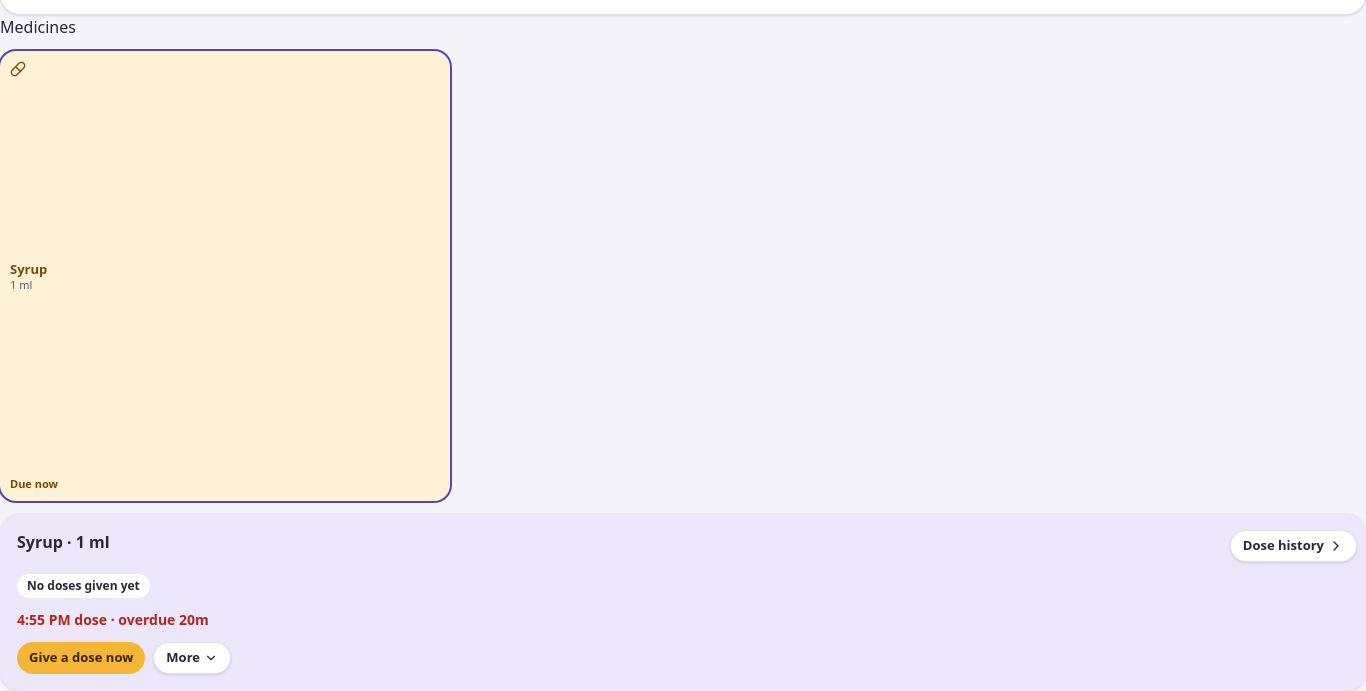
declining the reminder posts nothing, and a complete dose offers none
(page scrolled)
Click the button "More": click(192, 658) [153, 642, 231, 674]
(page scrolled)
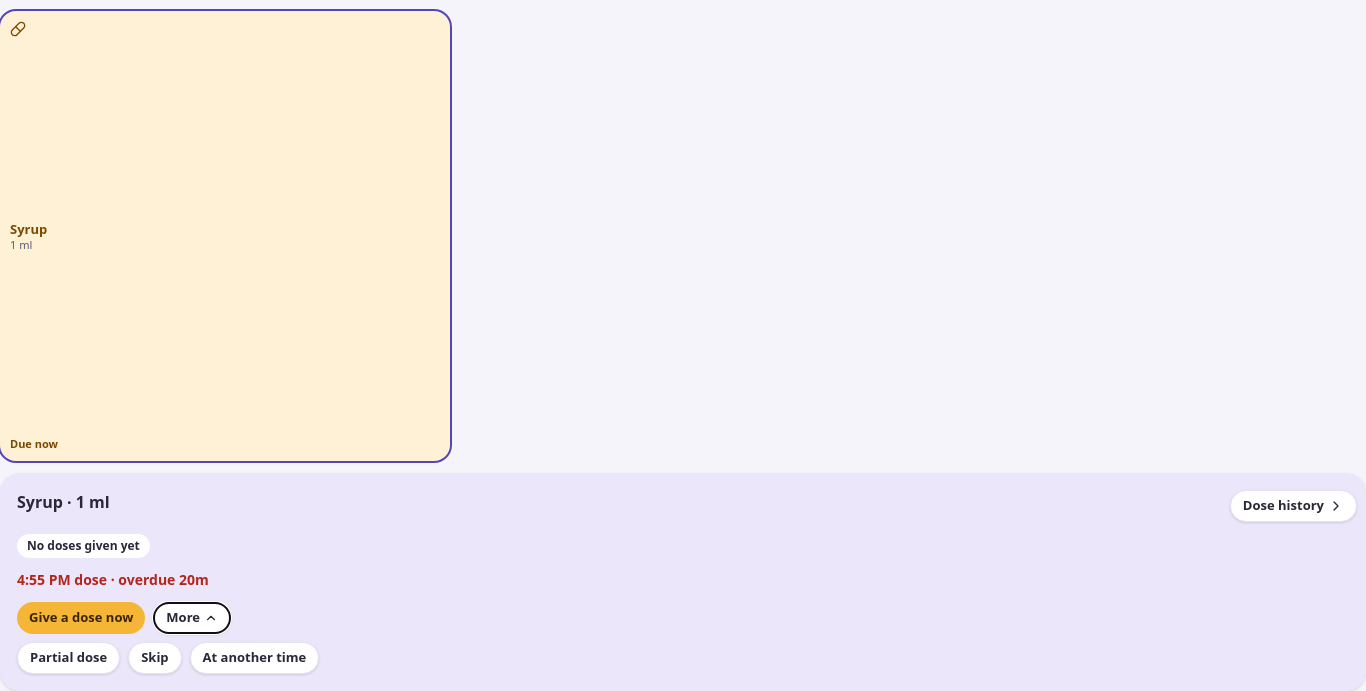
Click the button "Partial dose": click(69, 658) [17, 642, 120, 674]
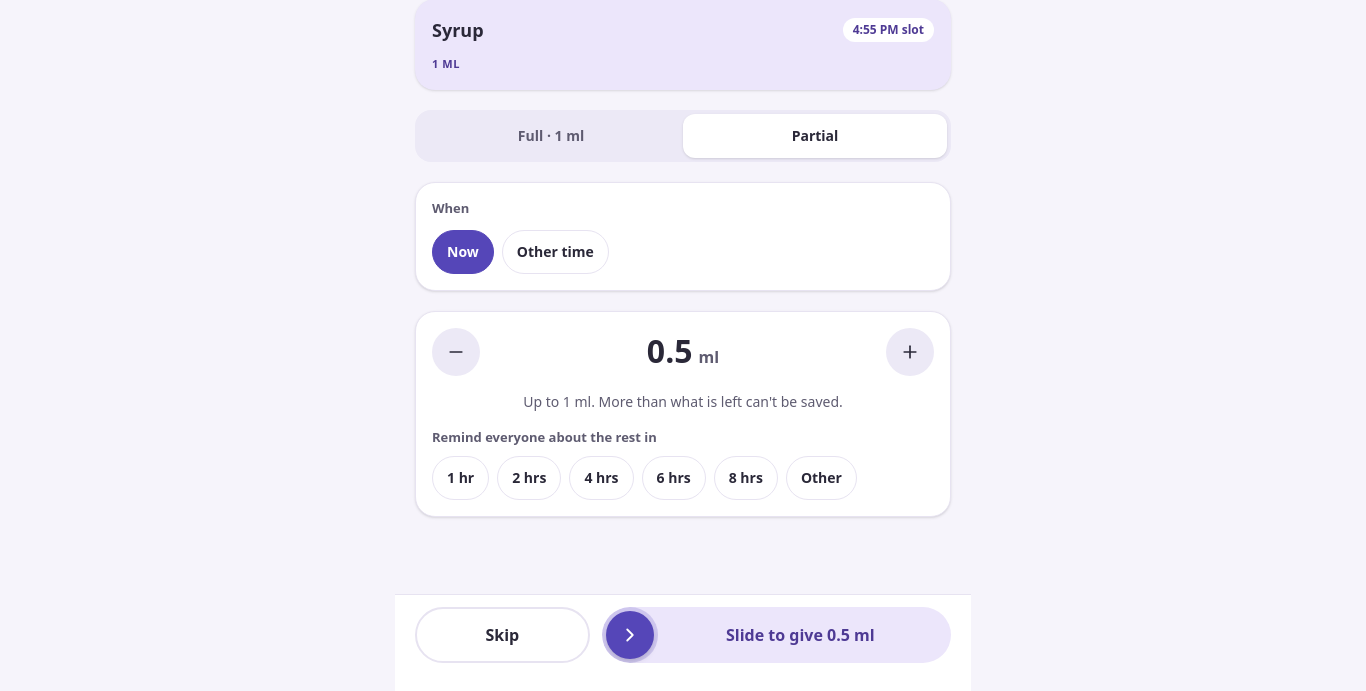
Click the button named "Slide to give": click(630, 635) [606, 611, 654, 659]
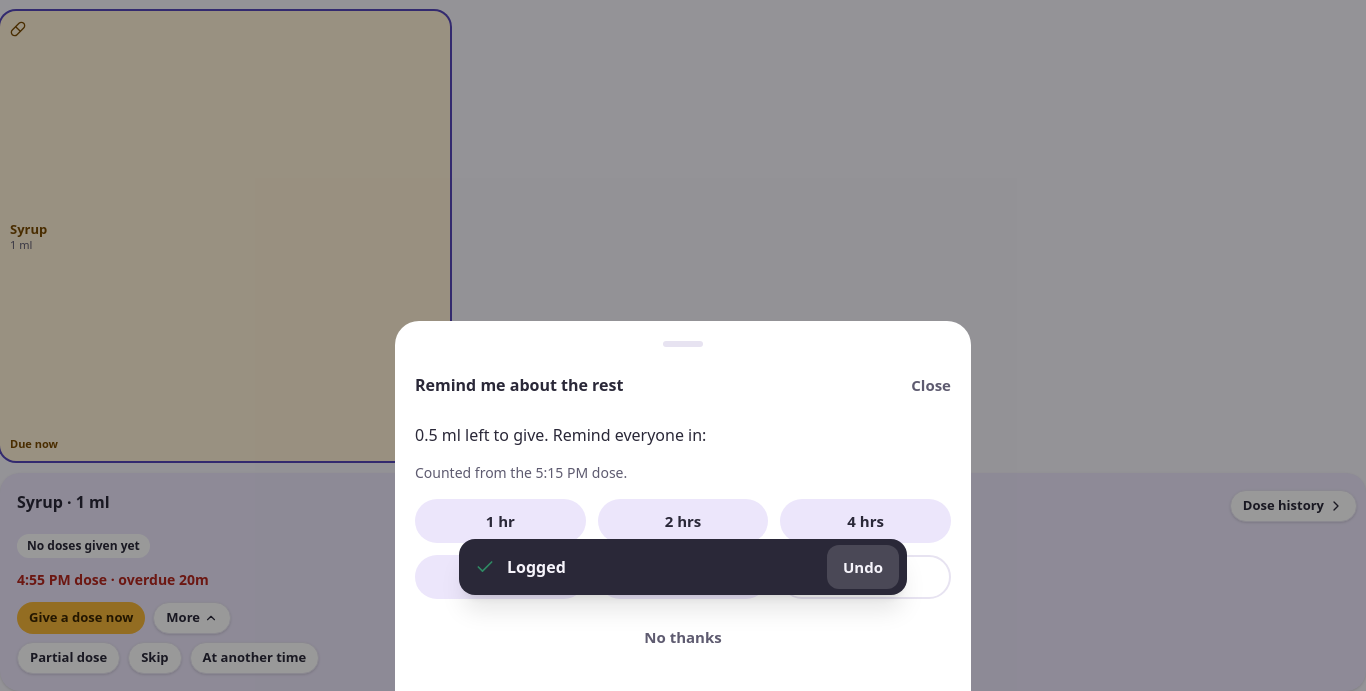
Click the button "No thanks": click(683, 637) [415, 615, 951, 659]
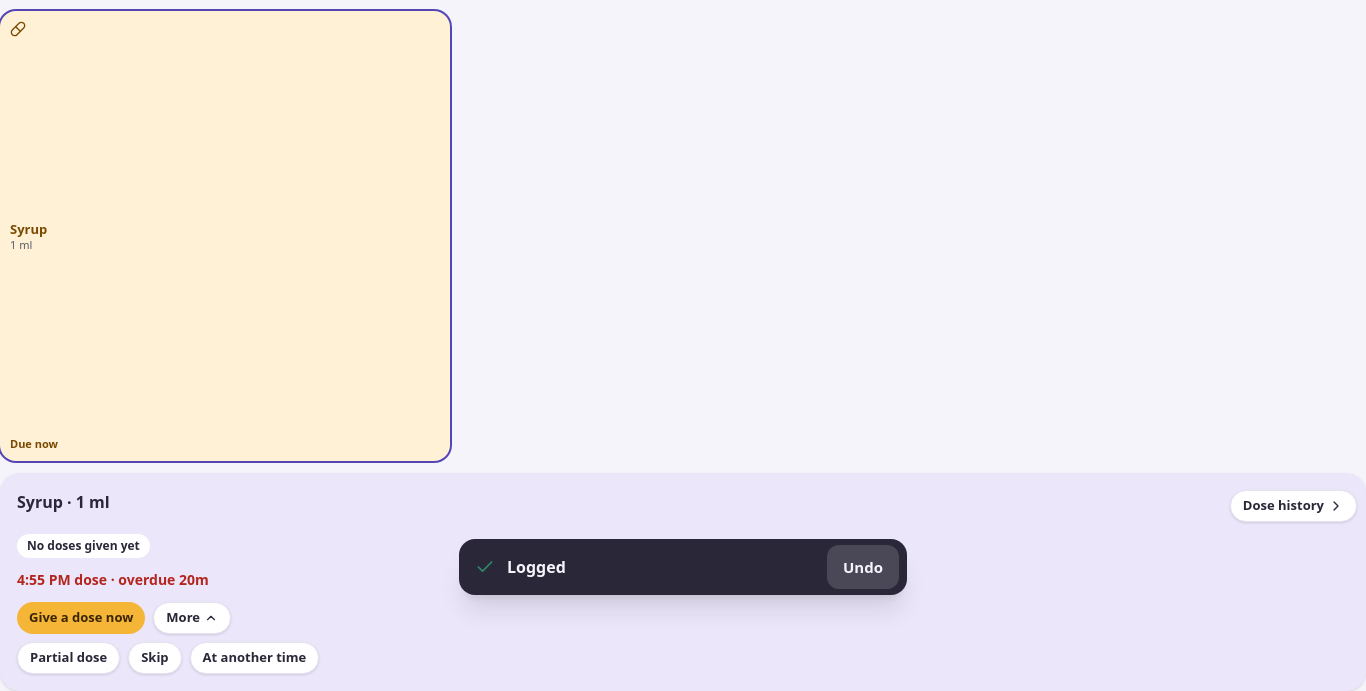
Check: the dialog is gone
